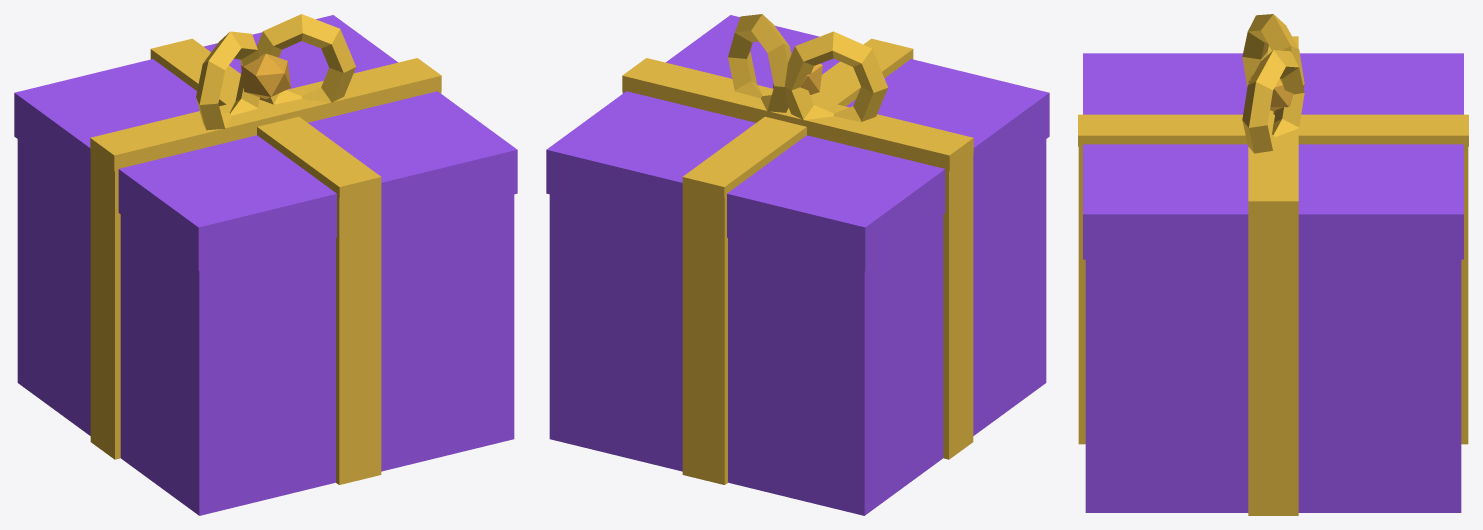
The model's file is caixa.glb.
3 views of the same model, side by side, from view 1: azimuth 30°, elevation 25°; view 2: azimuth 150°, elevation 25°; view 3: azimuth 270°, elevation 25° (orthographic). The views are drawn at different scales.
Visible parts, largest first — view 1: Caixa_Corpo, Caixa_Tampa, Fita_Frente, Fita_Topo_X, Fita_Esq, Fita_Topo_Y, Laco_Alca_Dir, Laco_Alca_Esq, Laco_No; view 2: Caixa_Corpo, Caixa_Tampa, Fita_Tras, Fita_Topo_X, Fita_Esq, Fita_Topo_Y, Laco_Alca_Esq, Laco_Alca_Dir; view 3: Caixa_Corpo, Caixa_Tampa, Fita_Dir, Fita_Topo_Y, Laco_Alca_Dir, Fita_Topo_X, Laco_Alca_Esq, Fita_Frente, Fita_Tras, Laco_No.
Part boxes in pixels (x1=…): Caixa_Corpo: x1=17, y1=139, x2=514, y2=515; Caixa_Tampa: x1=14, y1=15, x2=517, y2=271; Fita_Frente: x1=336, y1=187, x2=381, y2=484; Fita_Topo_X: x1=90, y1=58, x2=441, y2=171; Fita_Esq: x1=90, y1=154, x2=120, y2=459; Fita_Topo_Y: x1=150, y1=38, x2=381, y2=197; Laco_Alca_Dir: x1=256, y1=14, x2=355, y2=104; Laco_Alca_Esq: x1=196, y1=31, x2=259, y2=130; Laco_No: x1=241, y1=53, x2=290, y2=99; Caixa_Corpo: x1=549, y1=139, x2=1046, y2=515; Caixa_Tampa: x1=546, y1=15, x2=1049, y2=271; Fita_Tras: x1=682, y1=187, x2=727, y2=484; Fita_Topo_X: x1=622, y1=58, x2=973, y2=171; Fita_Esq: x1=943, y1=154, x2=973, y2=459; Fita_Topo_Y: x1=682, y1=38, x2=913, y2=197; Laco_Alca_Esq: x1=784, y1=31, x2=888, y2=121; Laco_Alca_Dir: x1=728, y1=14, x2=791, y2=112; Caixa_Corpo: x1=1085, y1=259, x2=1461, y2=512; Caixa_Tampa: x1=1083, y1=53, x2=1463, y2=259; Fita_Dir: x1=1248, y1=217, x2=1298, y2=515; Fita_Topo_Y: x1=1078, y1=114, x2=1468, y2=146; Laco_Alca_Dir: x1=1242, y1=50, x2=1304, y2=153; Fita_Topo_X: x1=1248, y1=36, x2=1298, y2=217; Laco_Alca_Esq: x1=1242, y1=14, x2=1304, y2=114; Fita_Frente: x1=1078, y1=144, x2=1085, y2=444; Fita_Tras: x1=1461, y1=144, x2=1468, y2=444; Laco_No: x1=1248, y1=74, x2=1293, y2=110.
Size of the model in its own units: 0.78 by 0.8843 by 0.78.
